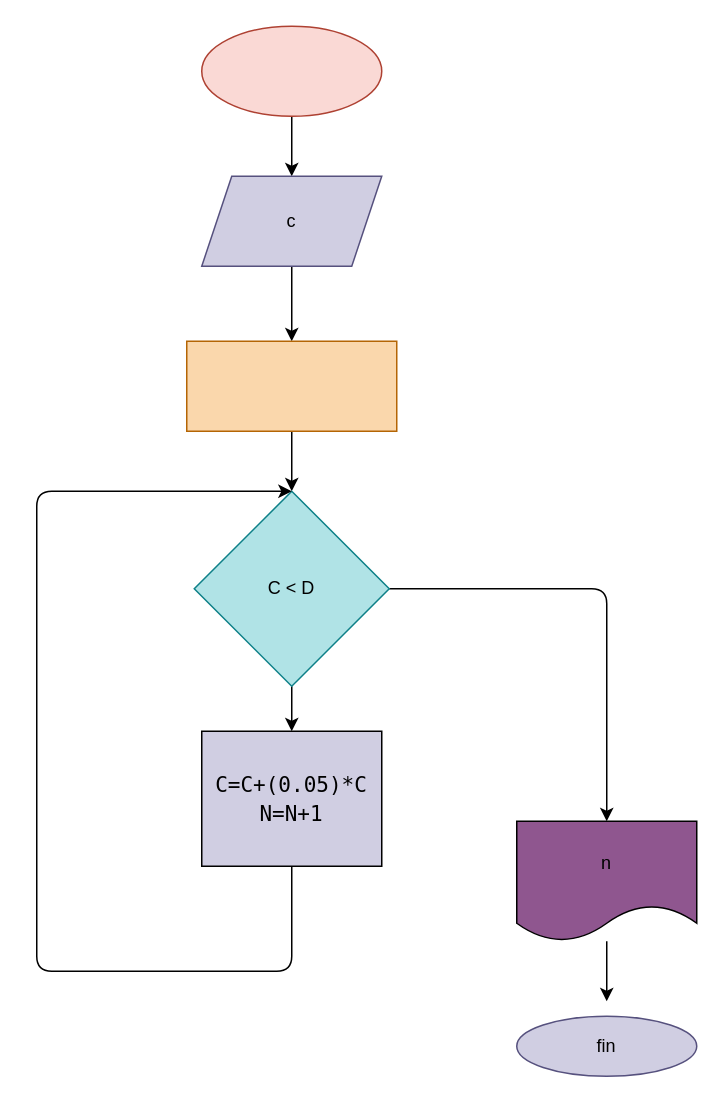
Image size: 723x1103. Some labels were removed from this diagram. Each missing label, with the centre of its shape:
"D= 2*c n=0" goes at (291,385).
"inicio" goes at (291,70).
